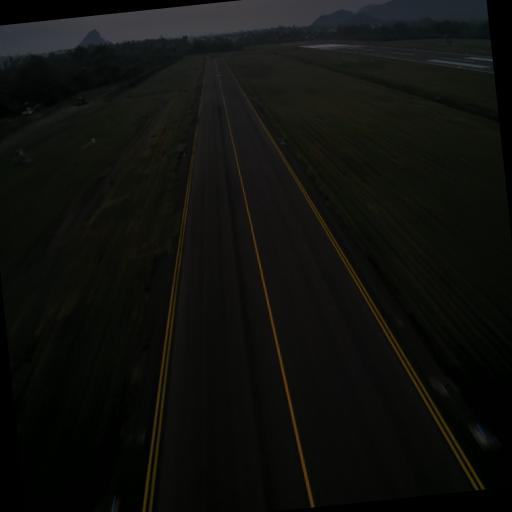on: (473, 416, 490, 447)
